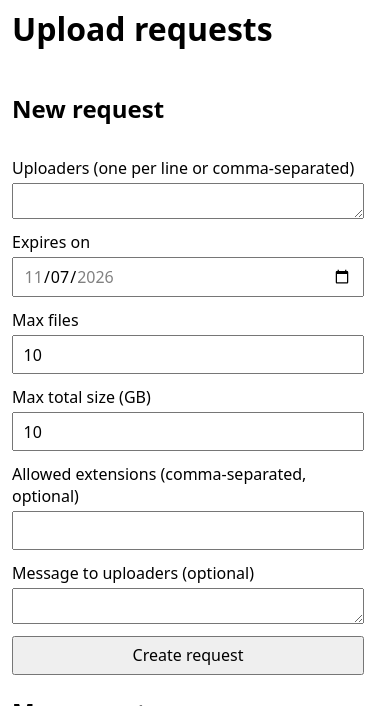
Test: validation error shows under the form
Type "bad" into the text box labelled "Uploaders (one per line or comma-separated)". click: x=188, y=201
box: 12,183 -> 364,219
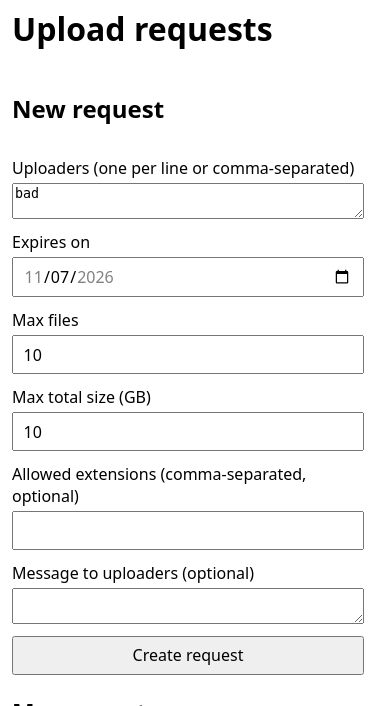
Click the button "Create request". click: x=188, y=655
box: 12,636 -> 364,675
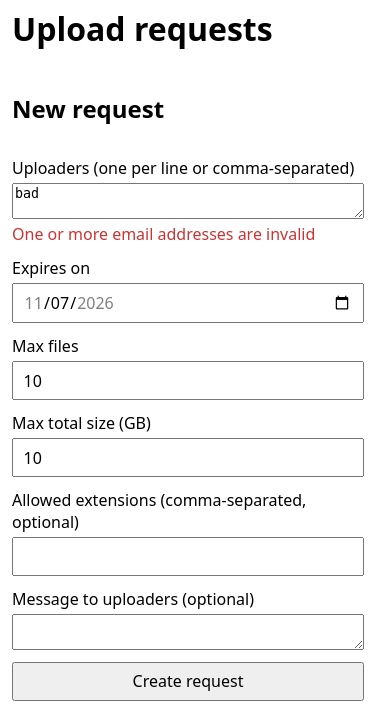
Expected: the message reads "One or more email addresses are invalid", 12,223 -> 315,245
